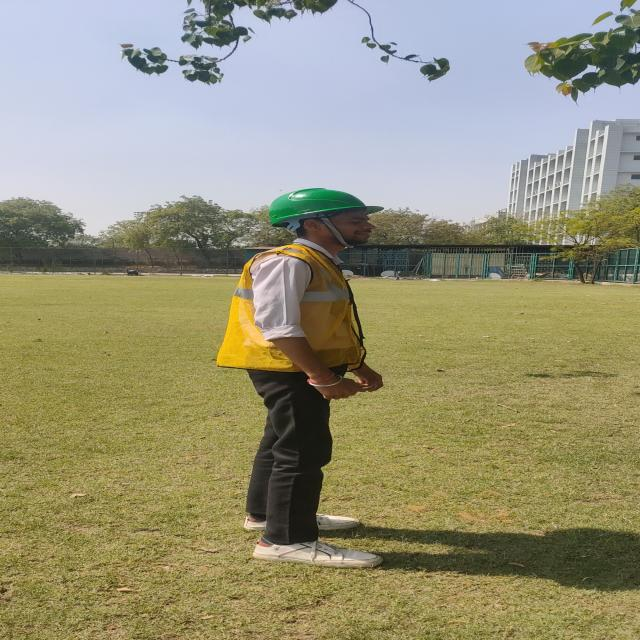safe: (216, 188, 385, 567)
